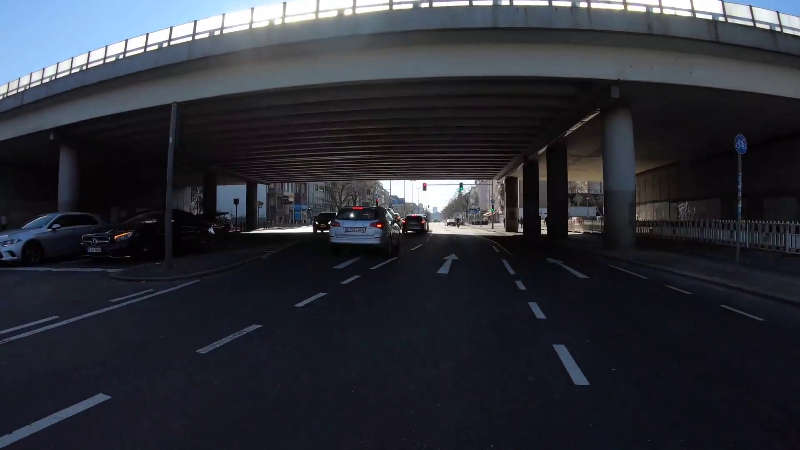Plate: (342, 226, 366, 233)
